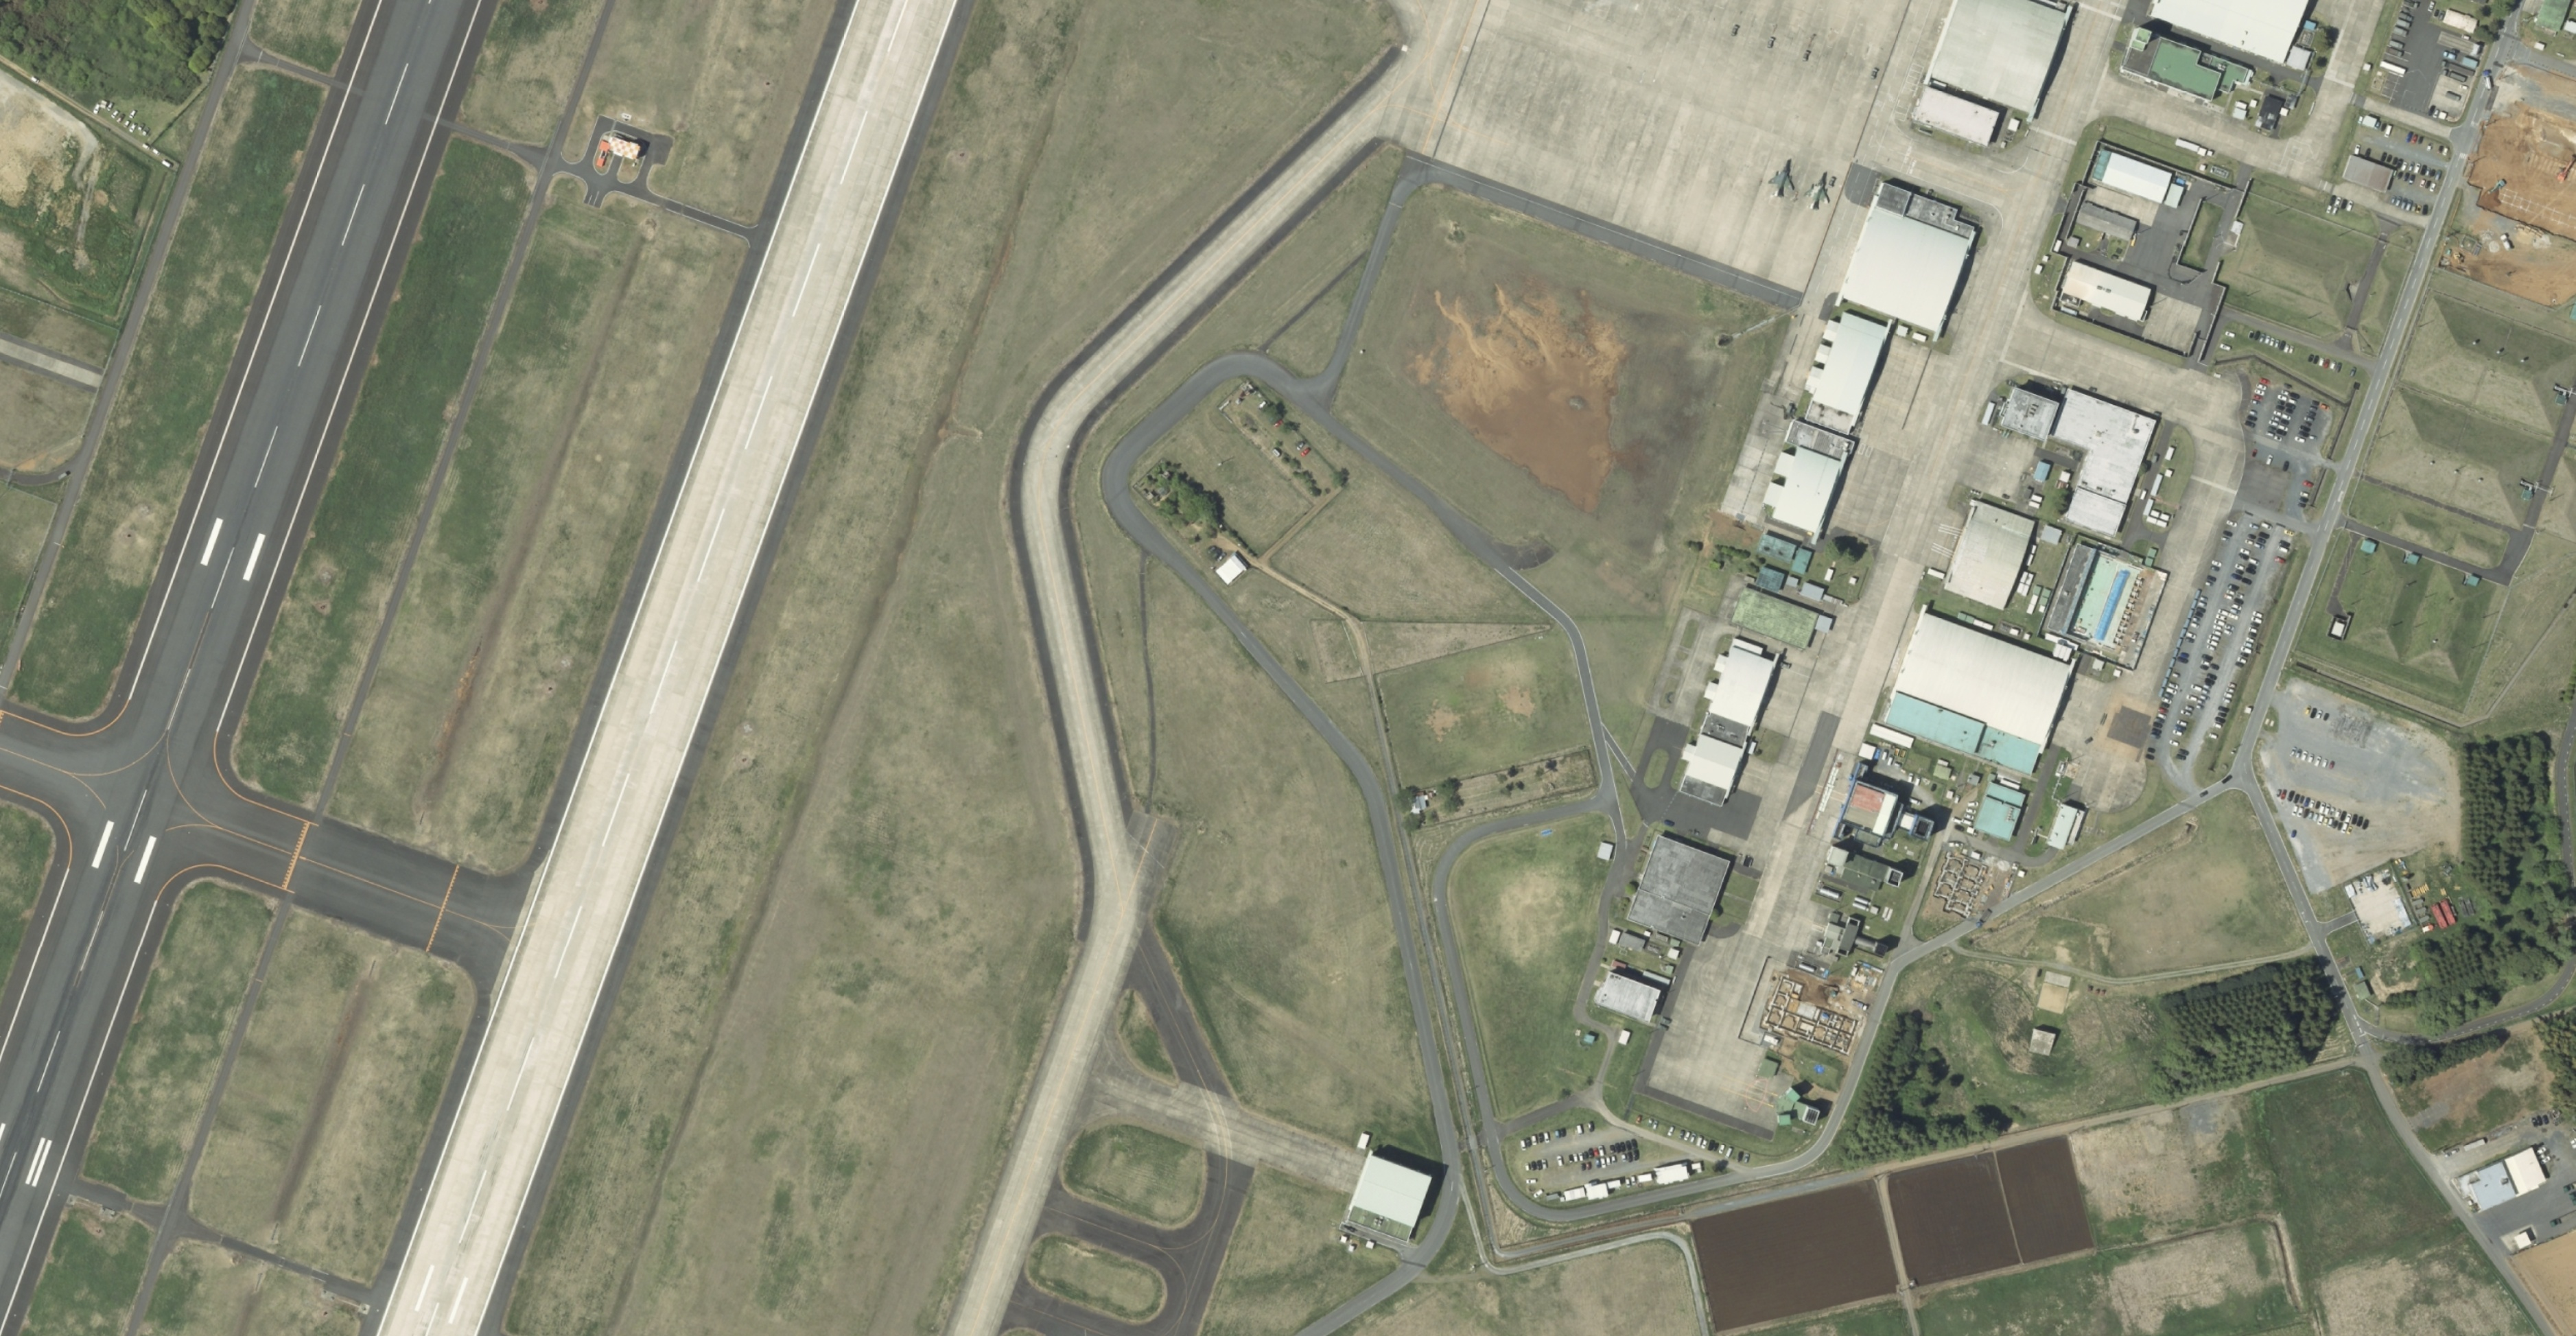F4: (1803, 170, 1830, 211), (1768, 158, 1794, 199)
